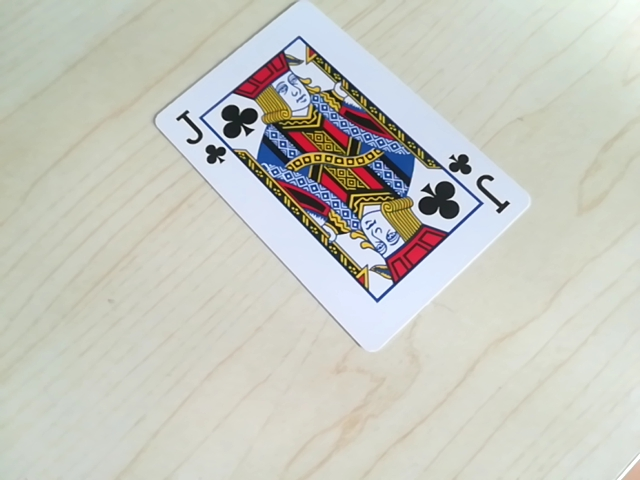mh j: (436, 149, 505, 203), (174, 120, 243, 166)
